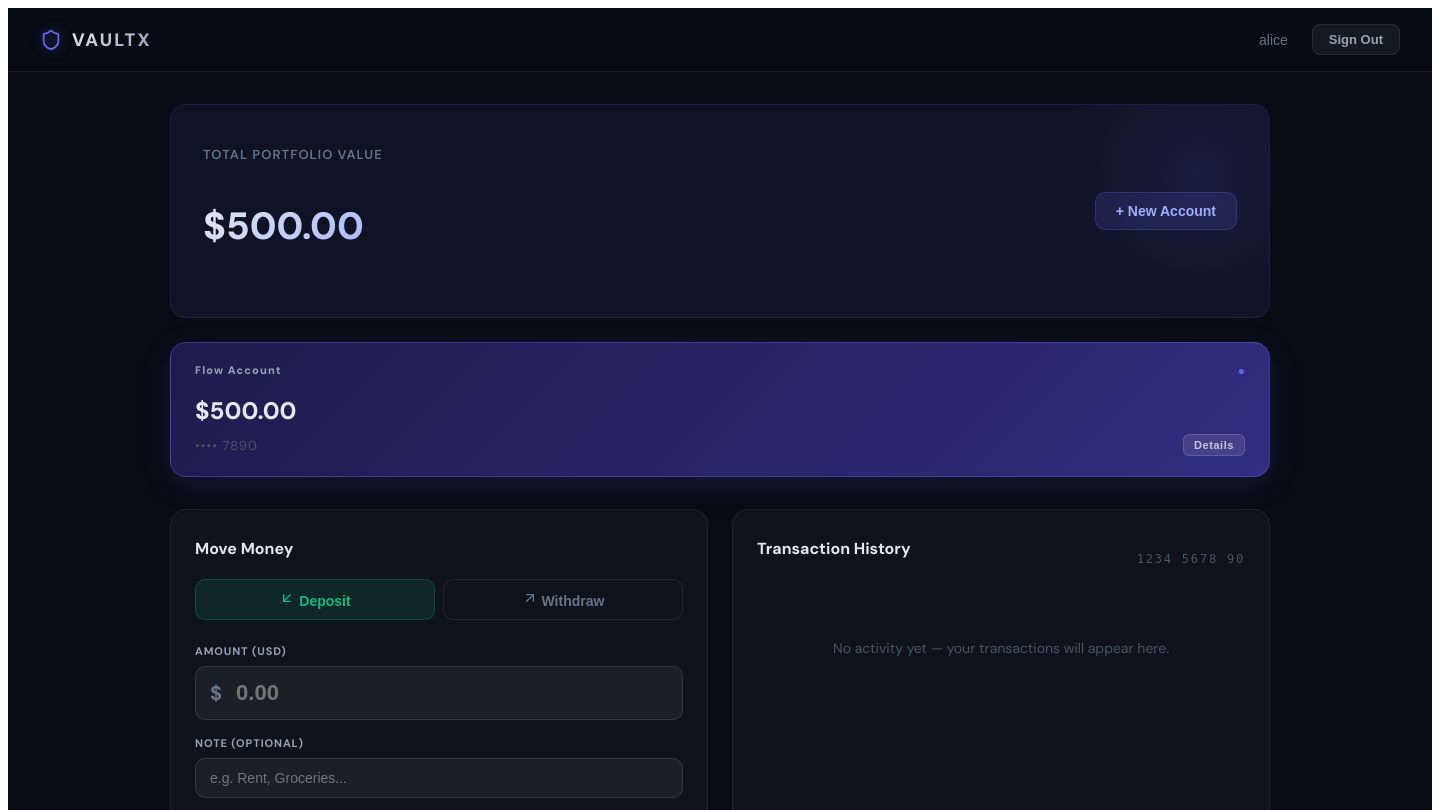
Dashboard — transaction form › successful withdraw shows success message
This screenshot has width=1440, height=810.
Step 1. Click the button "Withdraw" → click(563, 600), box [443, 579, 683, 620]
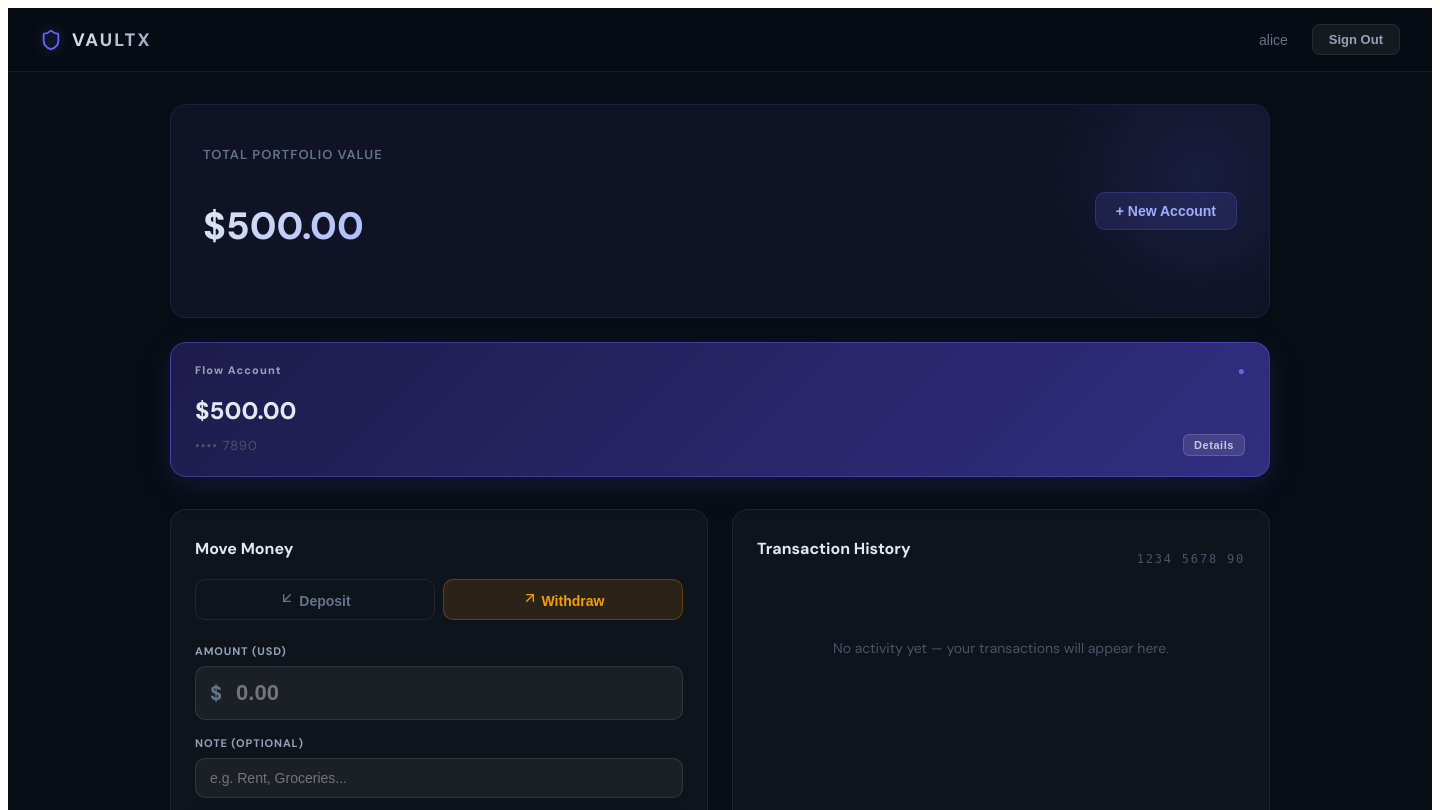
Step 2. Type "100" into the number field with placeholder "0.00" → (452, 693), box [222, 667, 682, 719]
(page scrolled)
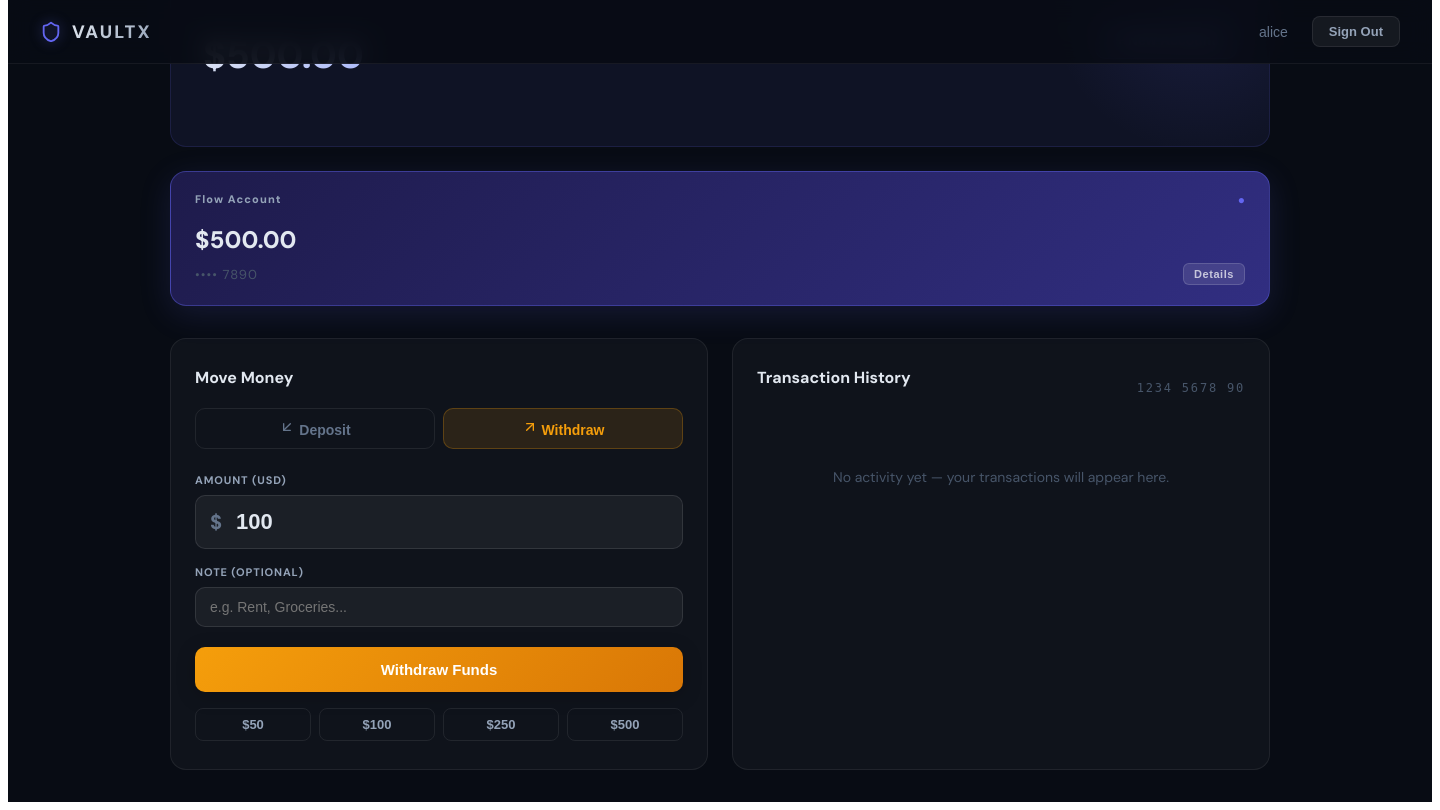
Step 3. Submit the form, box [195, 473, 683, 692]
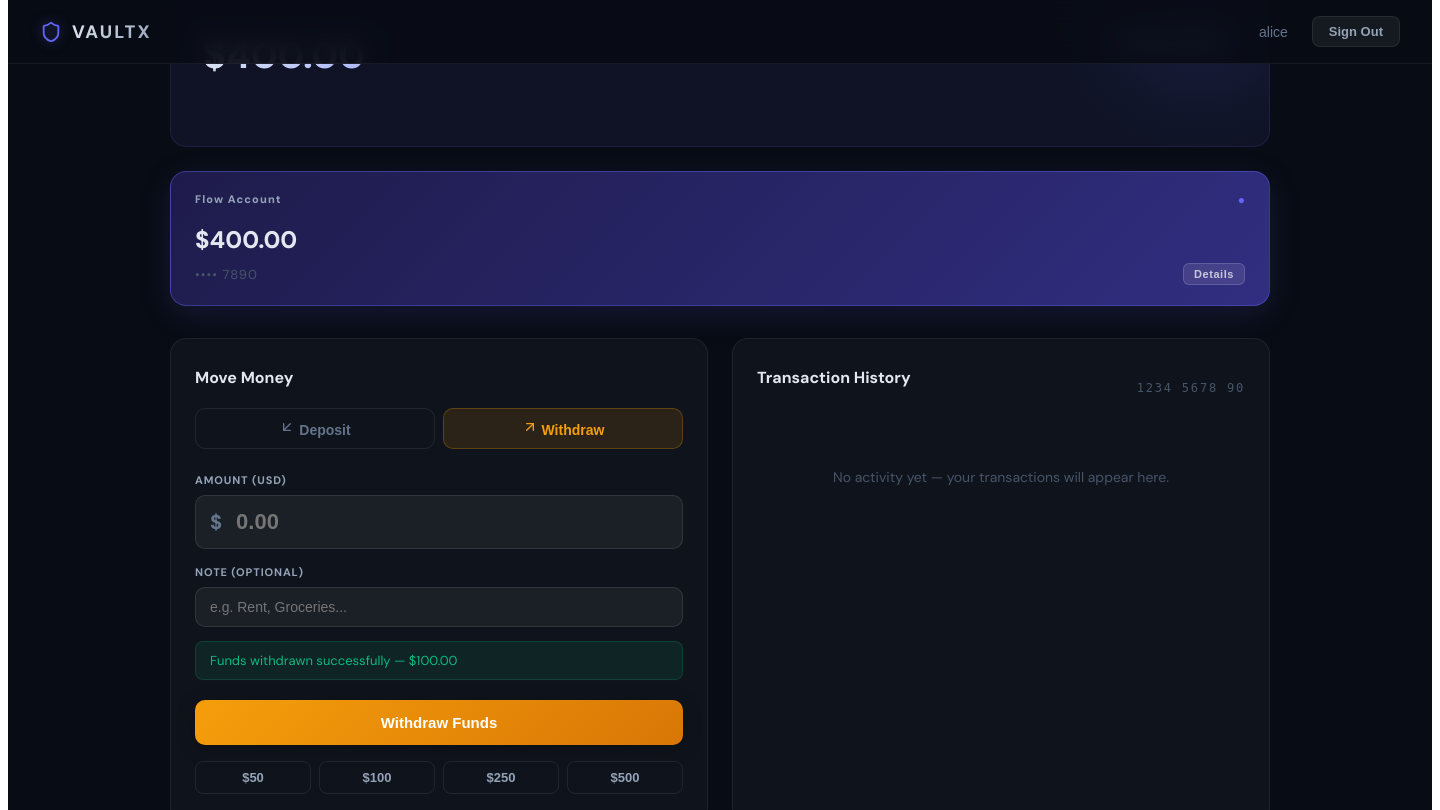
Expected: the text "Funds withdrawn successfully — $100.00" is shown, [195, 641, 683, 680]
